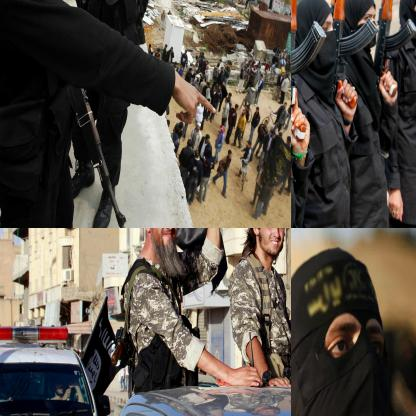rifle: (67, 84, 126, 227), (325, 0, 379, 108), (291, 0, 328, 125), (369, 0, 415, 84)
